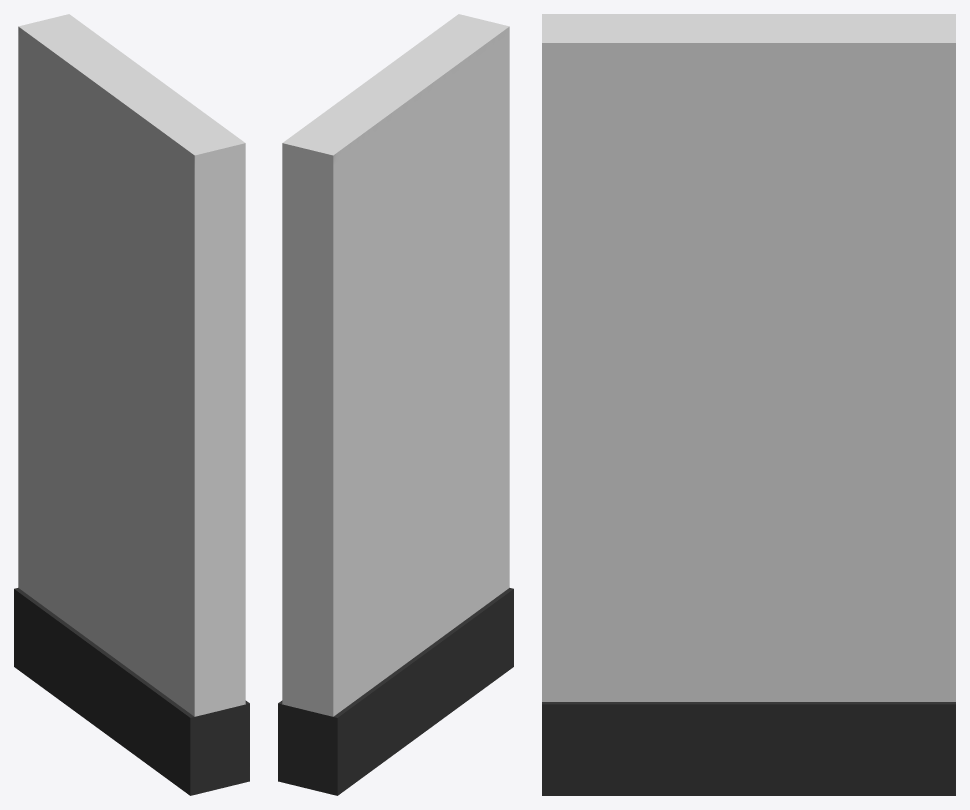
Rendered from ModularWall.fbx.
3 views of the same model, side by side, from view 1: azimuth 30°, elevation 25°; view 2: azimuth 150°, elevation 25°; view 3: azimuth 270°, elevation 25° (orthographic). The views are drawn at different scales.
Visible parts, largest first — view 1: pCube1; view 2: pCube1; view 3: pCube1.
Part boxes in pixels (left/top/right/bottom): pCube1: left=14, top=14, right=249, bottom=795; pCube1: left=278, top=14, right=513, bottom=795; pCube1: left=542, top=14, right=955, bottom=795.
Bounding box in the file's own units: 1.17 × 12 × 6.
